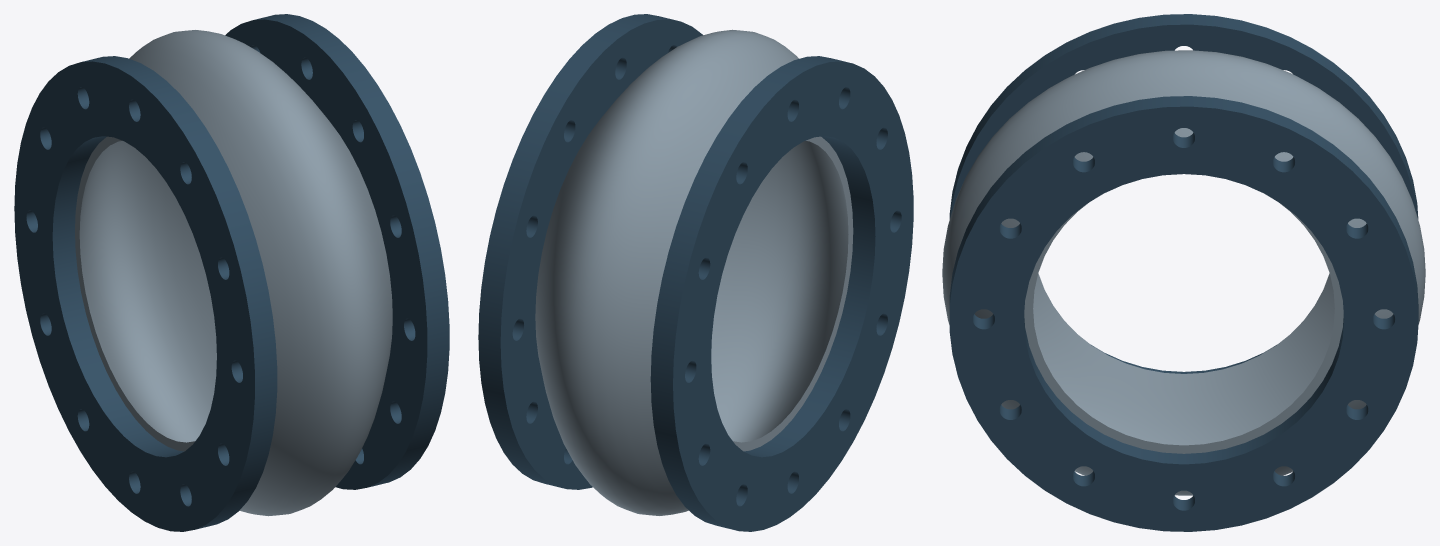
3 views of the same model, side by side, from view 1: azimuth 30°, elevation 25°; view 2: azimuth 150°, elevation 25°; view 3: azimuth 270°, elevation 25° (orthographic). The views are drawn at different scales.
Visible parts, largest first — view 1: rebro_vstavka_rezina, homut_flanec_1, homut_flanec_2; view 2: rebro_vstavka_rezina, homut_flanec_1, homut_flanec_2; view 3: homut_flanec_2, rebro_vstavka_rezina, homut_flanec_1.
Part boxes in pixels (left/top/right/bottom): rebro_vstavka_rezina: left=75, top=30, right=392, bottom=516; homut_flanec_1: left=14, top=56, right=277, bottom=531; homut_flanec_2: left=225, top=14, right=449, bottom=489; rebro_vstavka_rezina: left=535, top=29, right=853, bottom=515; homut_flanec_1: left=650, top=56, right=913, bottom=531; homut_flanec_2: left=478, top=14, right=702, bottom=489; homut_flanec_2: left=949, top=96, right=1418, bottom=531; rebro_vstavka_rezina: left=942, top=50, right=1425, bottom=495; homut_flanec_1: left=949, top=14, right=1418, bottom=373.
Size of the model in its own units: 255 by 562 by 563.
